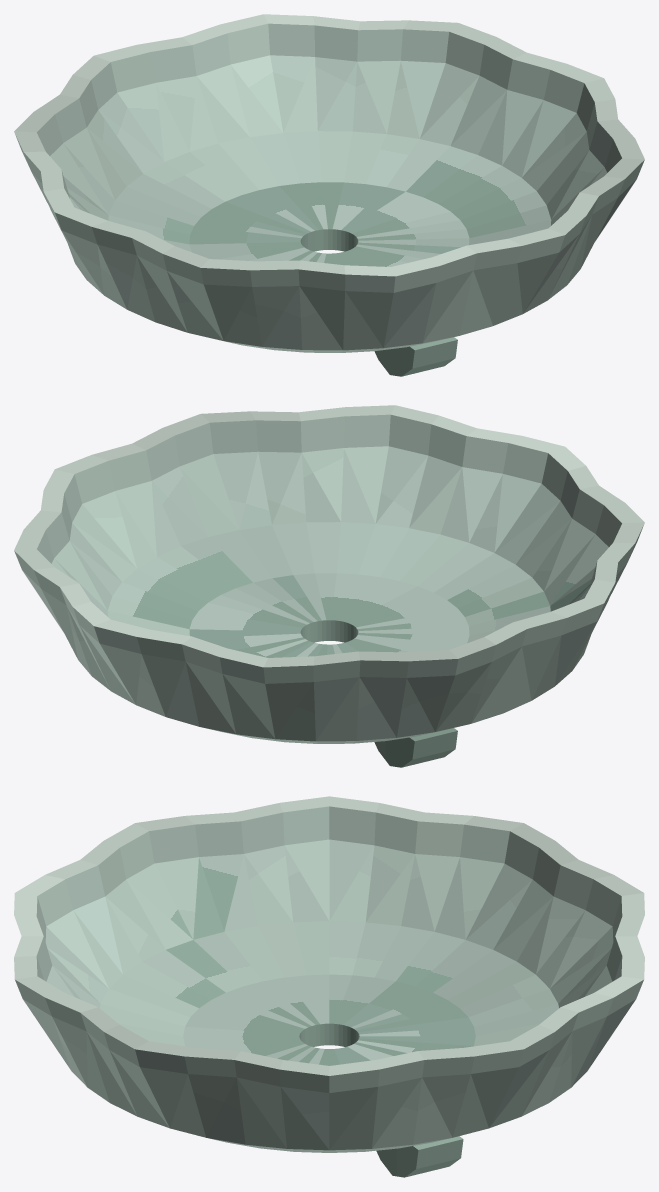
The model's file is antique-celadon.glb.
3 views of the same model, one above another, from view 1: azimuth 30°, elevation 25°; view 2: azimuth 150°, elevation 25°; view 3: azimuth 270°, elevation 25° (orthographic). The views are drawn at different scales.
Parts seen in each view (by area): view 1: antique-celadon/ceramic-inner-wall-6, antique-celadon/ceramic-outer-mid-2, antique-celadon/ceramic-inner-lower-7, antique-celadon/ceramic-inner-upper-5, antique-celadon/ceramic-rim-4, antique-celadon/ceramic-inner-floor-8, antique-celadon/ceramic-outer-upper-3, antique-celadon/kimen-foot-0, antique-celadon/ceramic-drainage-wall-9, antique-celadon/ceramic-outer-lower-1; view 2: antique-celadon/ceramic-inner-wall-6, antique-celadon/ceramic-outer-mid-2, antique-celadon/ceramic-inner-lower-7, antique-celadon/ceramic-inner-upper-5, antique-celadon/ceramic-rim-4, antique-celadon/ceramic-inner-floor-8, antique-celadon/ceramic-outer-upper-3, antique-celadon/kimen-foot-2, antique-celadon/ceramic-drainage-wall-9, antique-celadon/ceramic-outer-lower-1; view 3: antique-celadon/ceramic-inner-wall-6, antique-celadon/ceramic-outer-mid-2, antique-celadon/ceramic-inner-lower-7, antique-celadon/ceramic-inner-upper-5, antique-celadon/ceramic-rim-4, antique-celadon/ceramic-inner-floor-8, antique-celadon/ceramic-outer-upper-3, antique-celadon/kimen-foot-1, antique-celadon/ceramic-drainage-wall-9, antique-celadon/ceramic-outer-lower-1.
Part boxes in pixels (box(x1,y1,x2,y2)): antique-celadon/ceramic-inner-wall-6: box(50, 55, 607, 225); antique-celadon/ceramic-outer-mid-2: box(32, 173, 636, 350); antique-celadon/ceramic-inner-lower-7: box(108, 131, 551, 252); antique-celadon/ceramic-inner-upper-5: box(37, 23, 621, 198); antique-celadon/ceramic-rim-4: box(14, 14, 644, 276); antique-celadon/ceramic-inner-floor-8: box(189, 182, 469, 266); antique-celadon/ceramic-outer-upper-3: box(15, 134, 644, 292); antique-celadon/kimen-foot-0: box(374, 337, 457, 376); antique-celadon/ceramic-drainage-wall-9: box(300, 229, 358, 251); antique-celadon/ceramic-outer-lower-1: box(223, 336, 455, 352); antique-celadon/ceramic-inner-wall-6: box(51, 446, 608, 616); antique-celadon/ceramic-outer-mid-2: box(22, 564, 626, 741); antique-celadon/ceramic-inner-lower-7: box(107, 522, 550, 643); antique-celadon/ceramic-inner-upper-5: box(37, 414, 621, 589); antique-celadon/ceramic-rim-4: box(14, 405, 644, 667); antique-celadon/ceramic-inner-floor-8: box(189, 573, 469, 657); antique-celadon/ceramic-outer-upper-3: box(14, 525, 643, 683); antique-celadon/kimen-foot-2: box(374, 728, 457, 767); antique-celadon/ceramic-drainage-wall-9: box(300, 620, 358, 642); antique-celadon/ceramic-outer-lower-1: box(203, 727, 435, 743); antique-celadon/ceramic-inner-wall-6: box(45, 839, 613, 1008); antique-celadon/ceramic-outer-mid-2: box(23, 999, 635, 1150); antique-celadon/ceramic-inner-lower-7: box(100, 921, 558, 1046); antique-celadon/ceramic-inner-upper-5: box(36, 806, 622, 981); antique-celadon/ceramic-rim-4: box(14, 796, 644, 1075); antique-celadon/ceramic-inner-floor-8: box(183, 974, 475, 1065); antique-celadon/ceramic-outer-upper-3: box(15, 980, 643, 1092); antique-celadon/kimen-foot-1: box(376, 1136, 463, 1177); antique-celadon/ceramic-drainage-wall-9: box(299, 1023, 359, 1046); antique-celadon/ceramic-outer-lower-1: box(209, 1138, 449, 1152).
Size of the model in its own units: 0.6875 by 0.1966 by 0.6554.
Materials: 4 (4 with a texture image).
